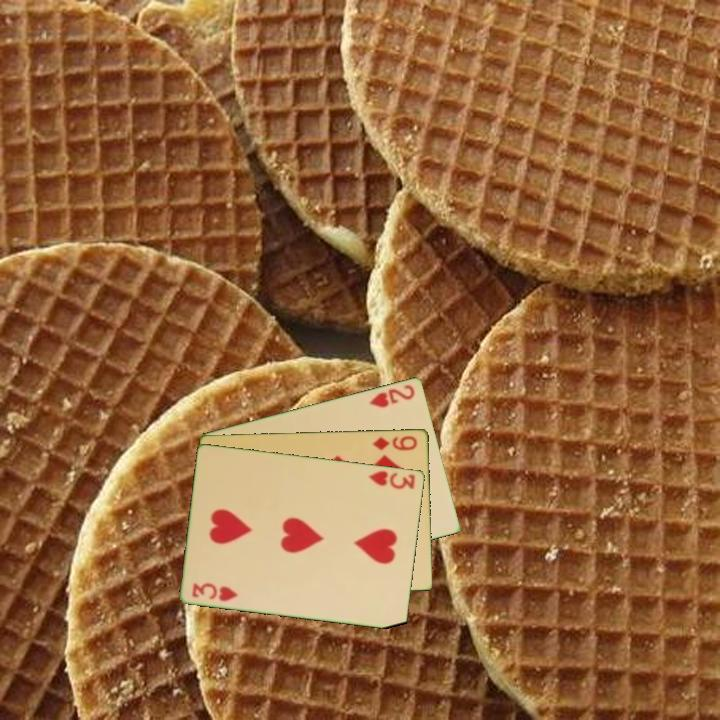2h: (366, 381, 418, 410)
3h: (365, 467, 418, 492), (189, 579, 241, 604)
9d: (370, 432, 420, 453)
